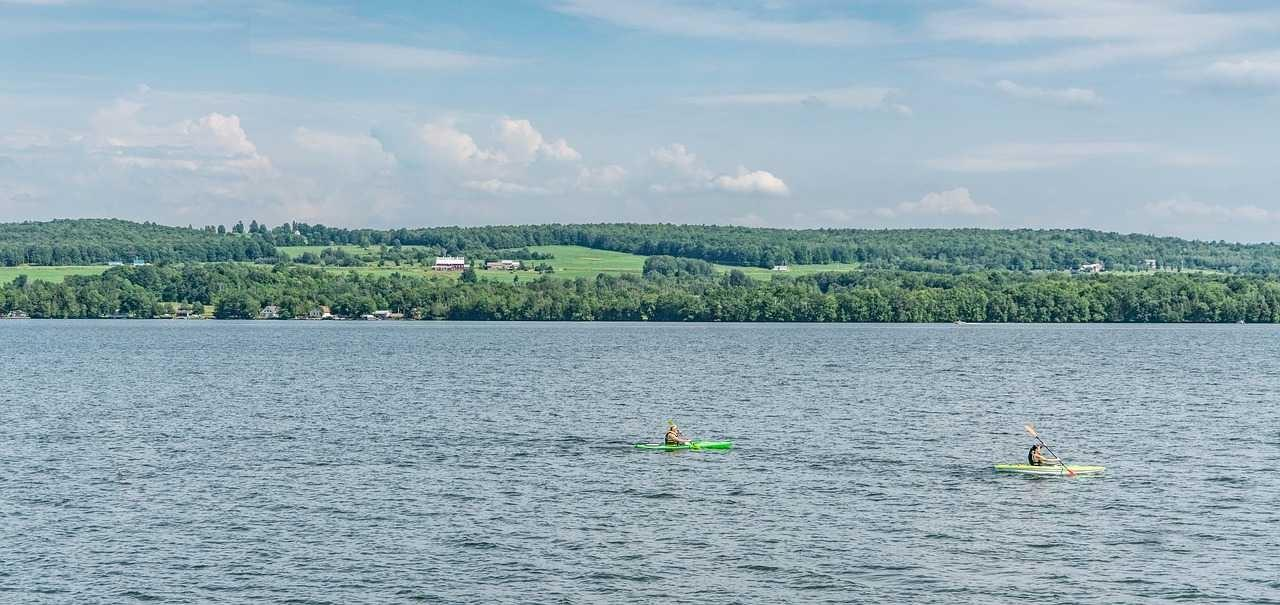kayak: (990, 460, 1109, 478)
